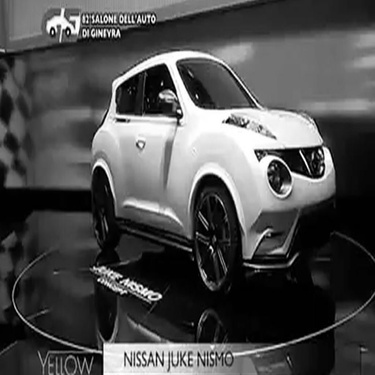car: (88, 40, 349, 304)
